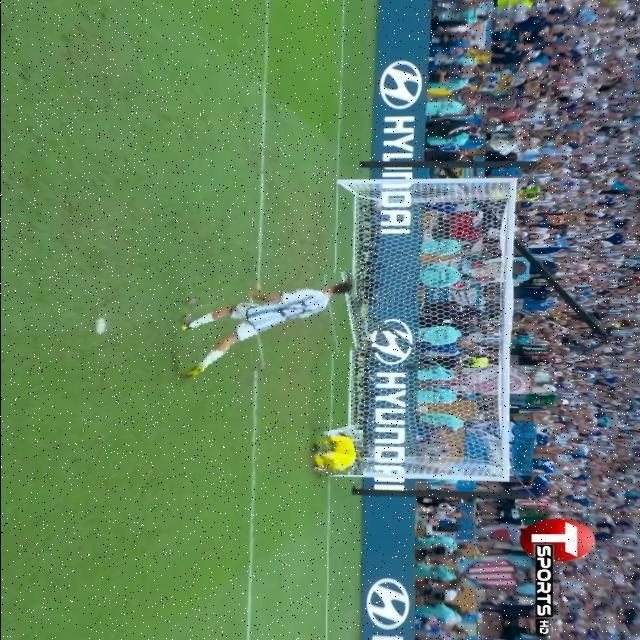goalkeeper: (302, 427, 364, 478)
player: (158, 279, 365, 378)
